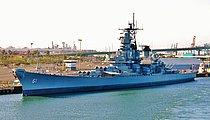MIL_Ship: (15, 25, 197, 92)
